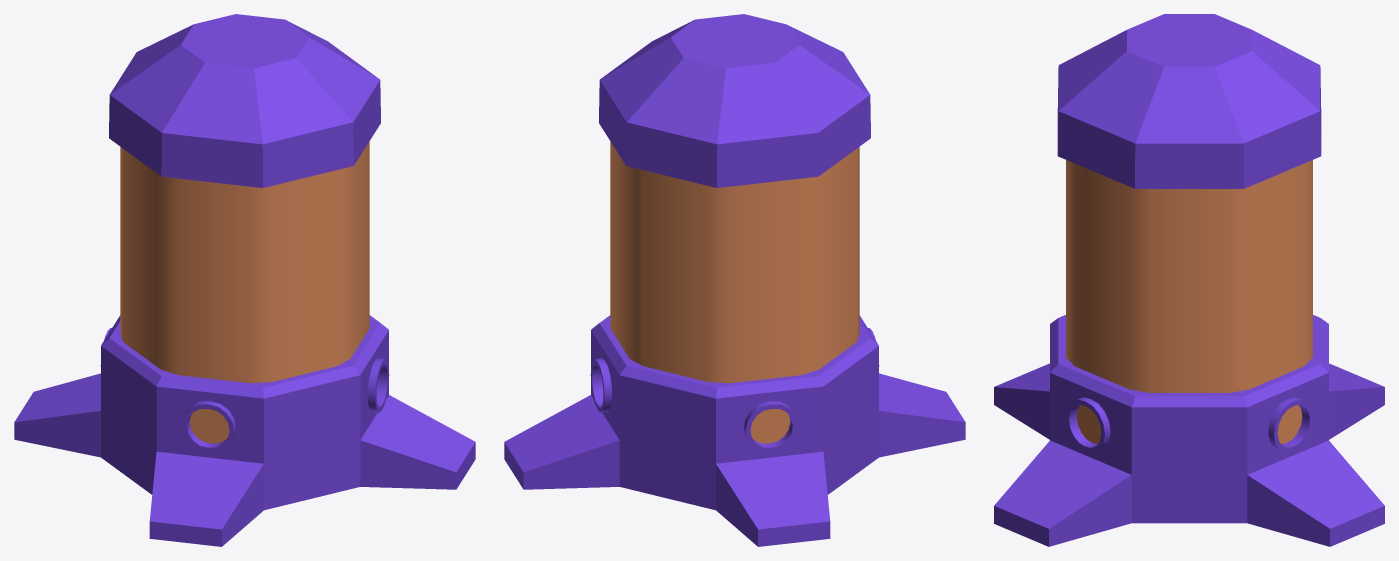
File: HealStation.fbx
The picture shows the model from 3 angles, left to right: view 1: azimuth 30°, elevation 25°; view 2: azimuth 150°, elevation 25°; view 3: azimuth 270°, elevation 25°; orthographic projection. The views are drawn at different scales.
Parts seen in each view (by area): view 1: Health Struct Final; view 2: Health Struct Final; view 3: Health Struct Final.
Part boxes in pixels (box(x1,y1,x2,y2)): Health Struct Final: box(14, 14, 475, 546); Health Struct Final: box(504, 14, 965, 546); Health Struct Final: box(994, 14, 1384, 546).
Size of the model in its own units: 256 by 306 by 256.
